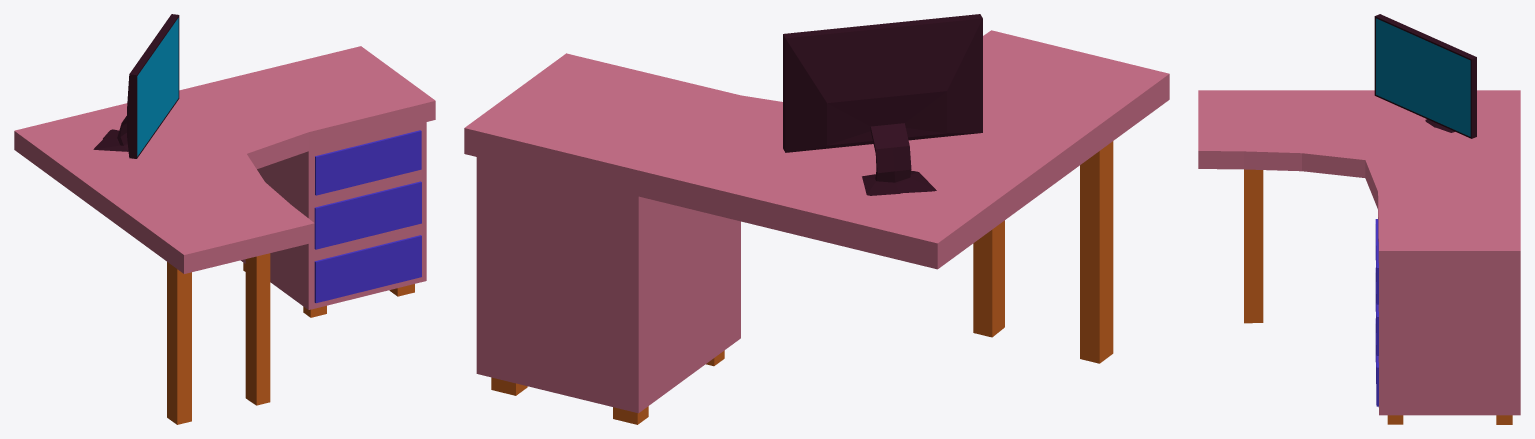
File: 2021desk.fbx
The picture shows the model from 3 angles, left to right: view 1: azimuth 30°, elevation 25°; view 2: azimuth 150°, elevation 25°; view 3: azimuth 270°, elevation 25°; orthographic projection. The views are drawn at different scales.
Visible parts, largest first — view 1: Cube, Cube.001; view 2: Cube, Cube.001; view 3: Cube, Cube.001.
Boxes of the visible parts, x1,y1,x2,y2 form: Cube: [14, 46, 435, 424]; Cube.001: [93, 14, 179, 158]; Cube: [464, 30, 1169, 424]; Cube.001: [783, 14, 982, 195]; Cube: [1198, 90, 1520, 424]; Cube.001: [1374, 14, 1476, 138].
Size of the model in its own units: 449 by 362 by 381.
